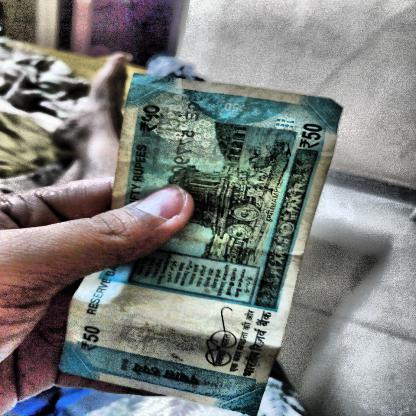Rs50: (74, 320, 108, 356), (294, 120, 329, 153)
